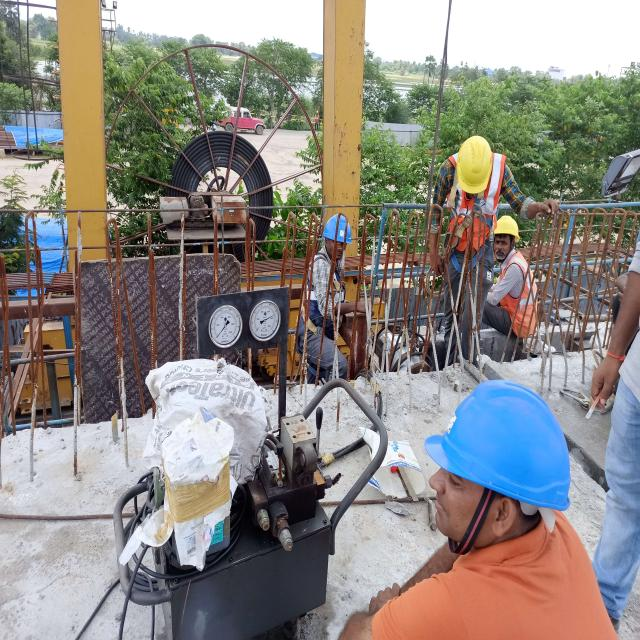Hardhat: (418, 380, 574, 516), (451, 136, 494, 191), (321, 212, 353, 244), (492, 212, 522, 239)
No-mask: (429, 485, 467, 536), (494, 247, 508, 261)
No-safetyvest: (365, 522, 618, 640)
Person: (339, 385, 600, 640), (591, 228, 640, 640), (432, 134, 506, 351), (298, 211, 351, 383), (492, 213, 538, 341)
Safetyvest: (444, 152, 502, 253), (494, 255, 541, 334), (306, 253, 345, 338)
